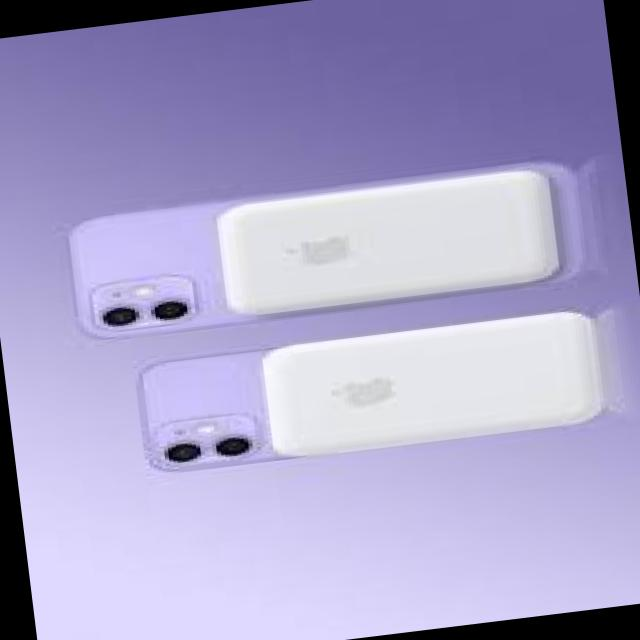power_bank: (250, 304, 602, 461), (214, 165, 564, 321)
